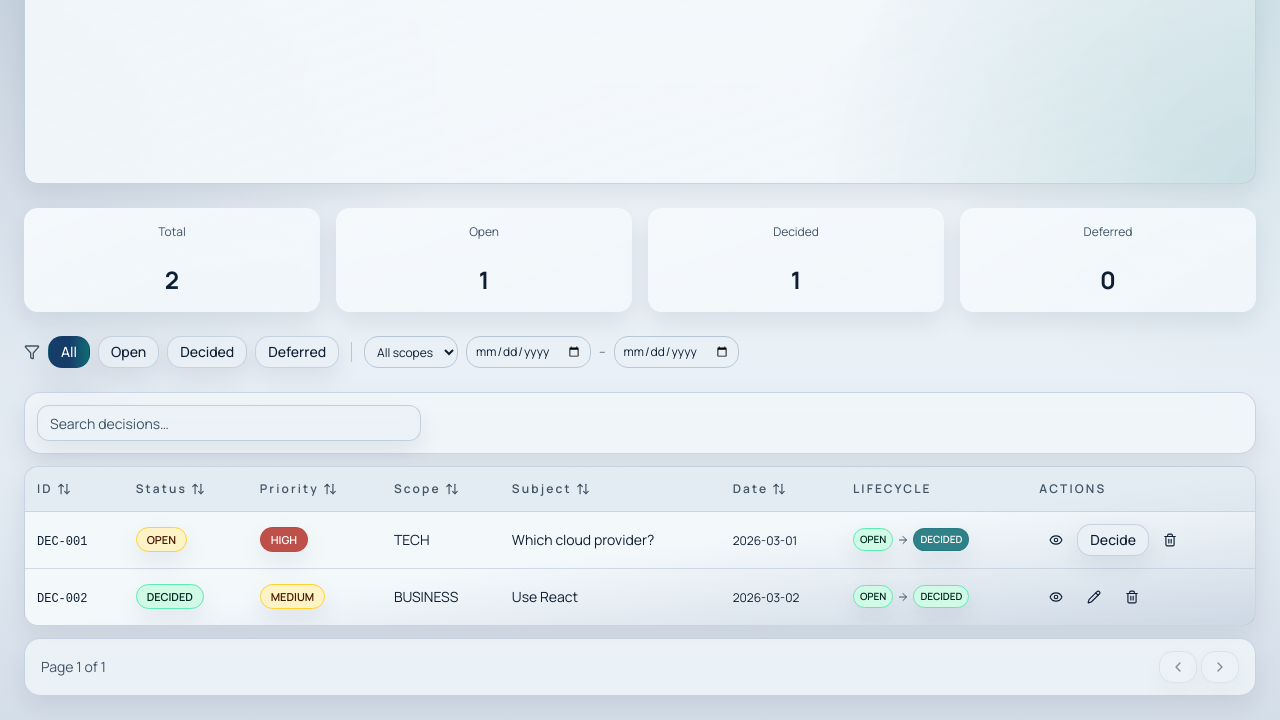
DecisionsPage › shows related decisions in the detail view
This screenshot has width=1280, height=720.
(page scrolled)
Click the button named "view dec-001" at (1056, 540), box [1039,524,1073,556]
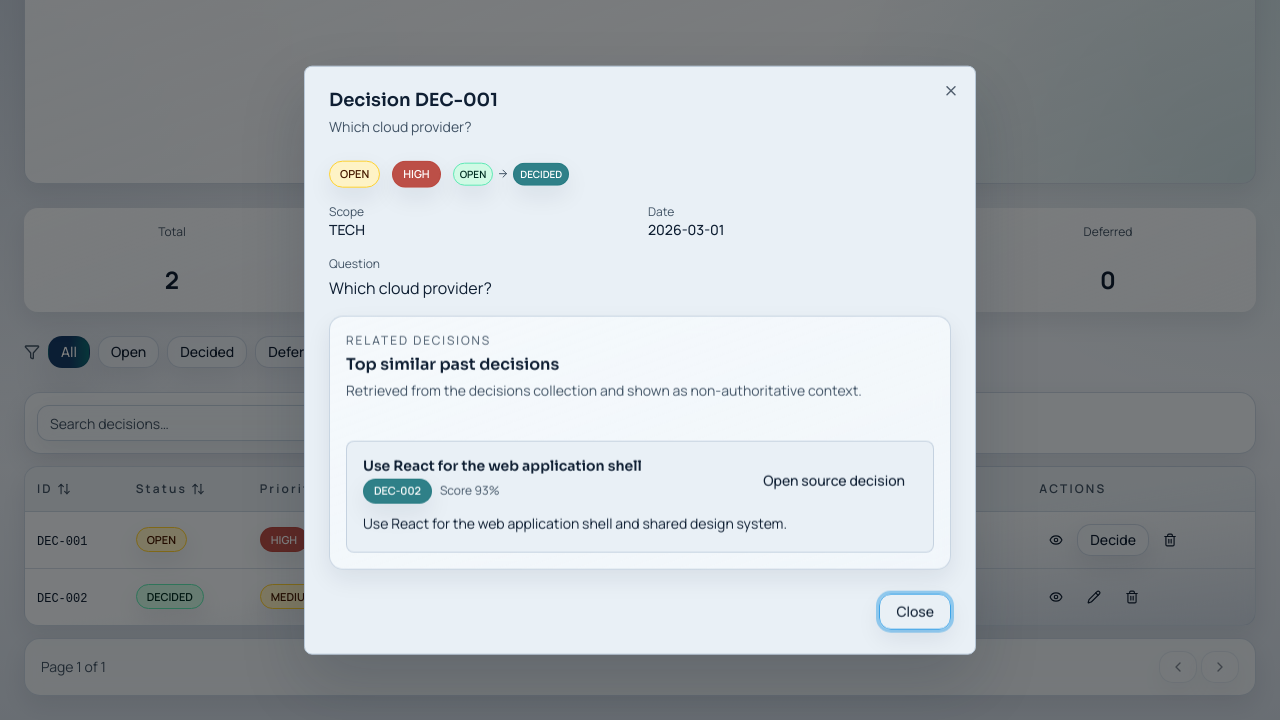
Expected: the element with test id "related-decisions-panel-detail" is shown, [329,315,951,569]
Expected: the heading "Top similar past decisions" is shown, [346,353,559,374]
Expected: the text "shared design system" is shown, [363,513,787,532]
